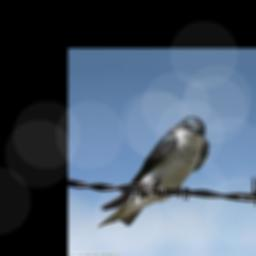Swallow: (99, 115, 210, 227)
